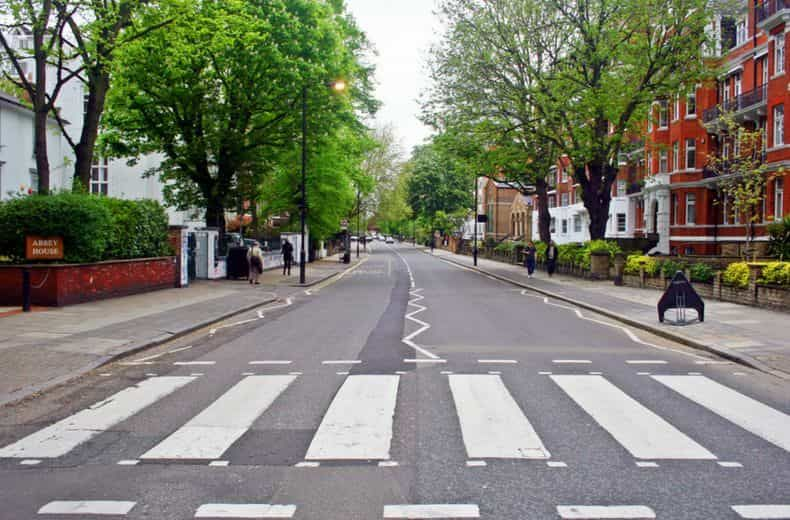Crosswalk: (34, 348, 790, 481)
Tree: (432, 1, 679, 259), (101, 1, 274, 240)
